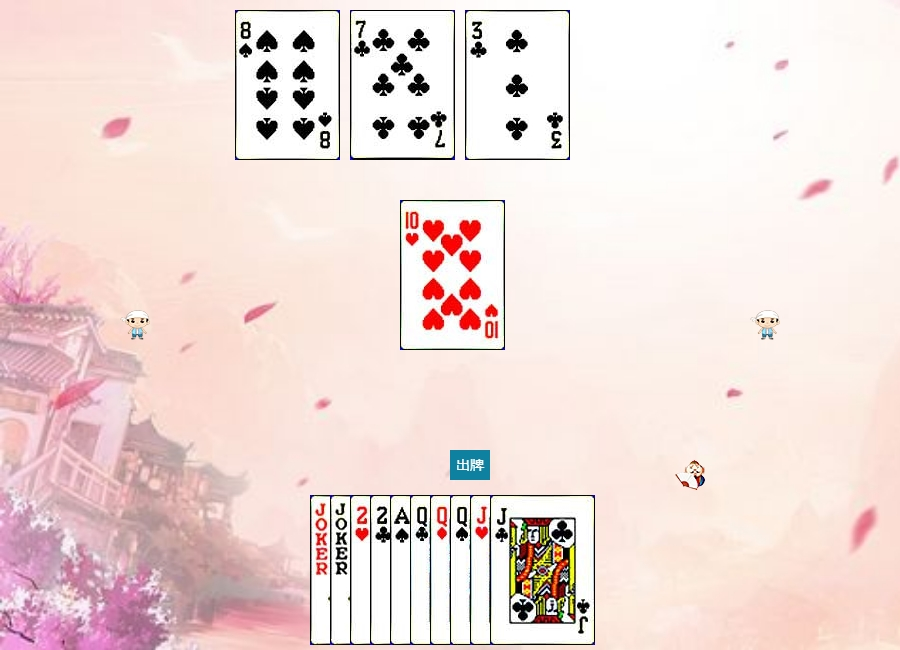10~3: (400, 200, 505, 350)
11~2: (490, 495, 595, 645)
11~3: (470, 495, 575, 645)
12~1: (430, 495, 535, 645)
12~2: (410, 495, 515, 645)
12~4: (450, 495, 555, 645)
14~4: (390, 495, 495, 645)
15~2: (370, 495, 475, 645)
15~3: (350, 495, 455, 645)
17~3: (330, 495, 435, 645)
18~4: (310, 495, 415, 645)
3~2: (465, 10, 570, 160)
7~2: (350, 10, 455, 160)
8~4: (235, 10, 340, 160)
